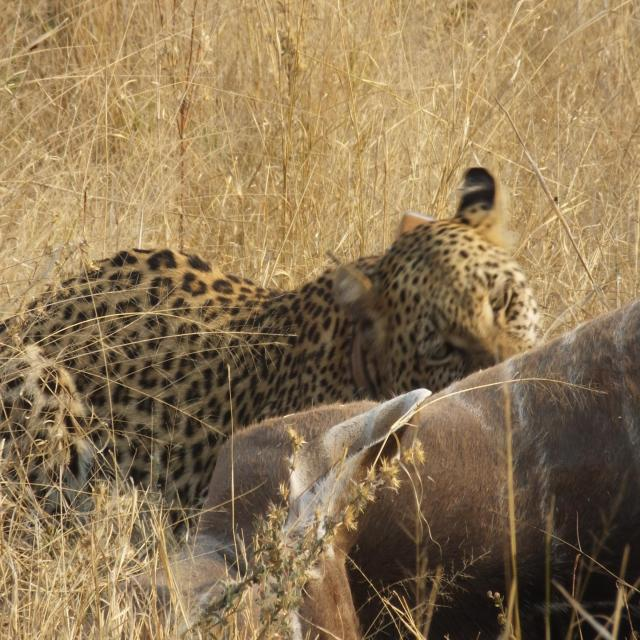Leopard: (0, 194, 559, 565)
